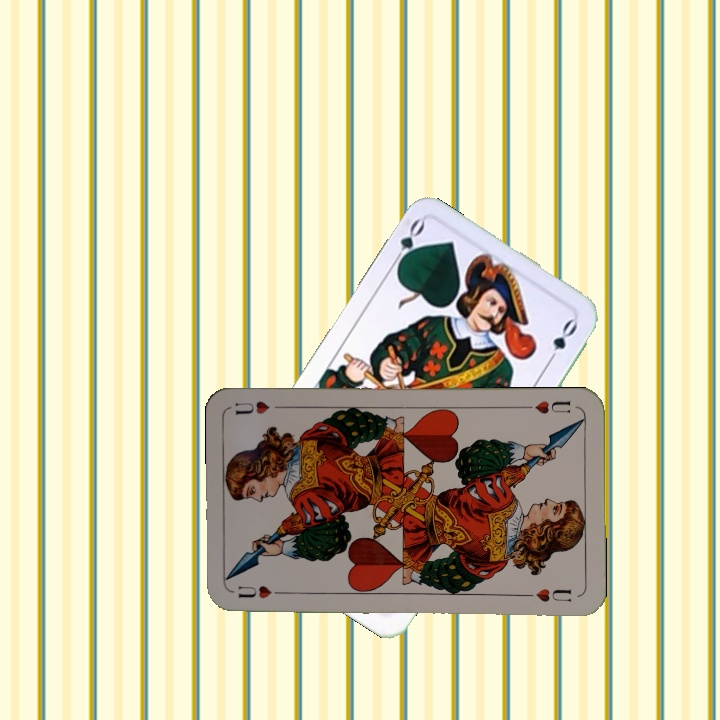GO: (387, 215, 428, 272)
HU: (235, 582, 290, 602), (520, 396, 573, 416)
